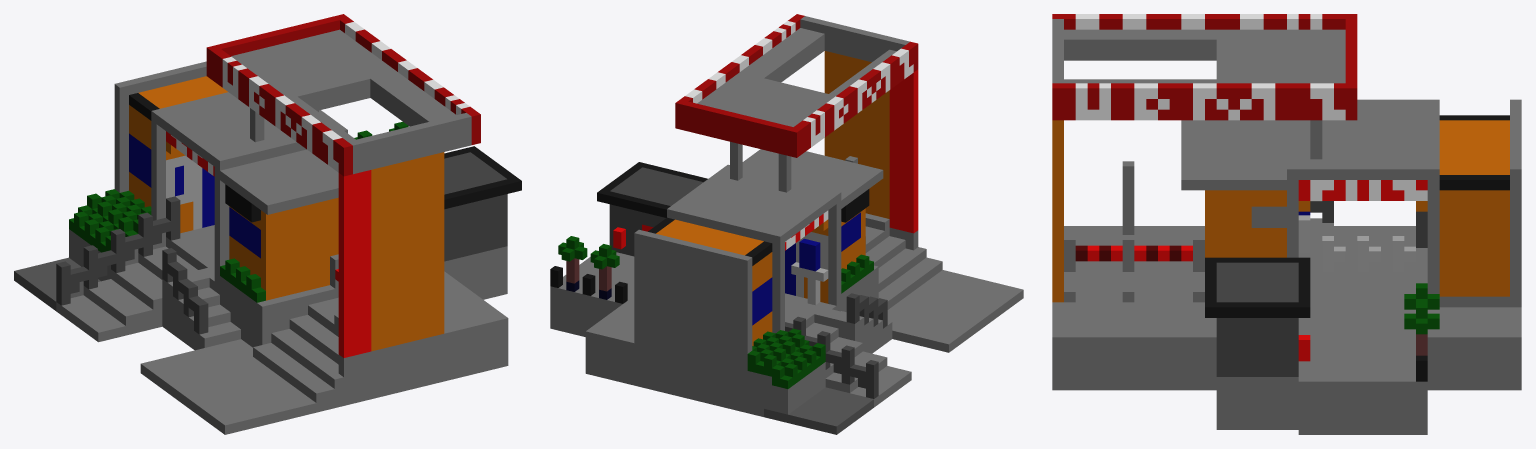
The model's file is porteria2_texture_embed (1).fbx.
3 views of the same model, side by side, from view 1: azimuth 30°, elevation 25°; view 2: azimuth 150°, elevation 25°; view 3: azimuth 270°, elevation 25° (orthographic). The views are drawn at different scales.
Parts seen in each view (by area): view 1: porteria2; view 2: porteria2; view 3: porteria2.
Part boxes in pixels (x1,y1,x2,y2): porteria2: (14, 14, 521, 434); porteria2: (550, 14, 1023, 434); porteria2: (1052, 14, 1521, 434).
Bounding box in the file's own units: 400 × 270 × 400.
Materials: 1 (1 with a texture image).
